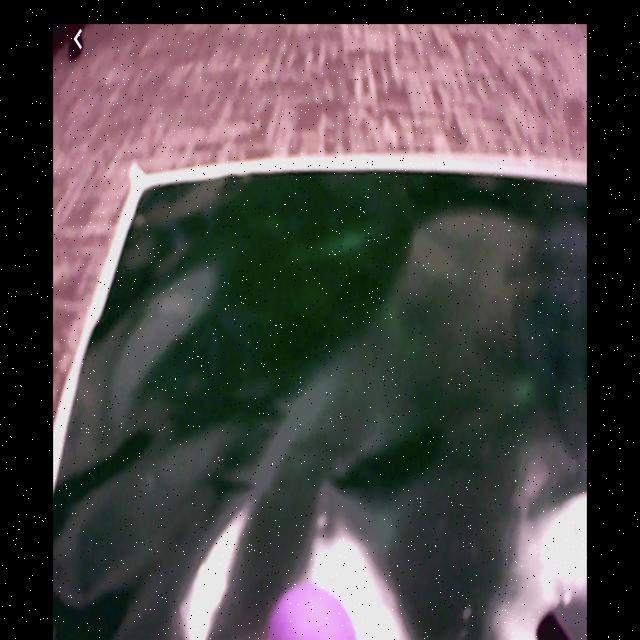ball: (269, 585, 356, 640)
